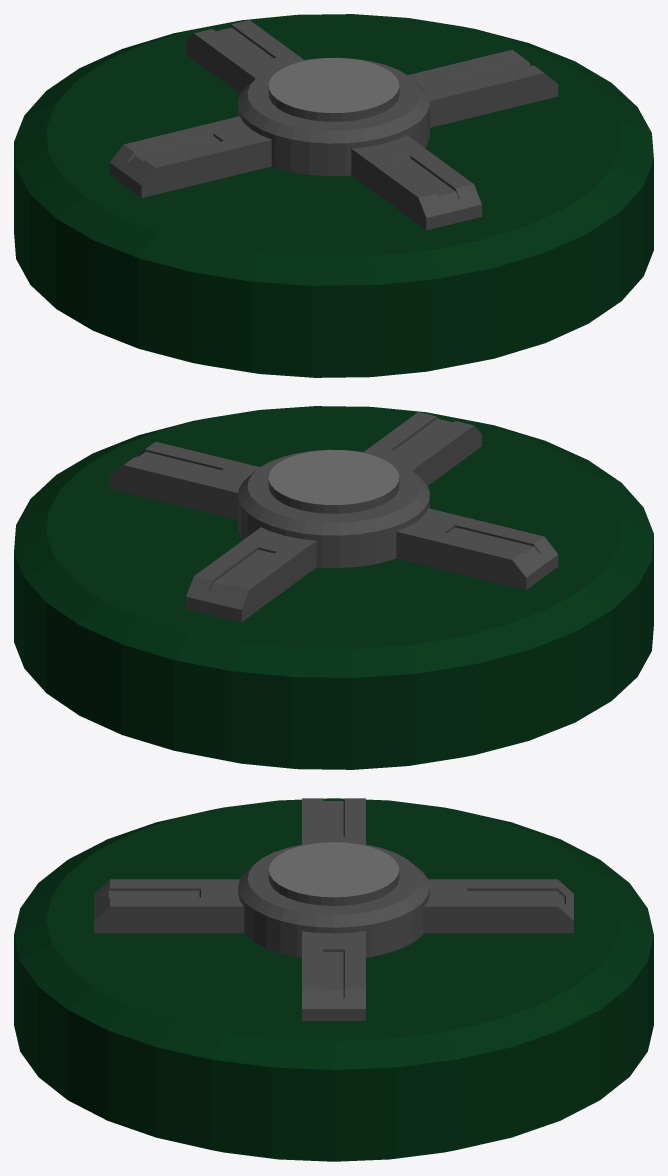
File: NormalMine.fbx
3 renders of one model, top to bottom at view 1: azimuth 30°, elevation 25°; view 2: azimuth 150°, elevation 25°; view 3: azimuth 270°, elevation 25°, orthographic.
Parts seen in each view (by area): view 1: NormalMine01; view 2: NormalMine01; view 3: NormalMine01.
Part boxes in pixels (<box>): NormalMine01: <box>14,14,653,377</box>; NormalMine01: <box>14,406,653,769</box>; NormalMine01: <box>14,798,653,1161</box>.
Bounding box in the file's own units: 200 × 58.78 × 200.
